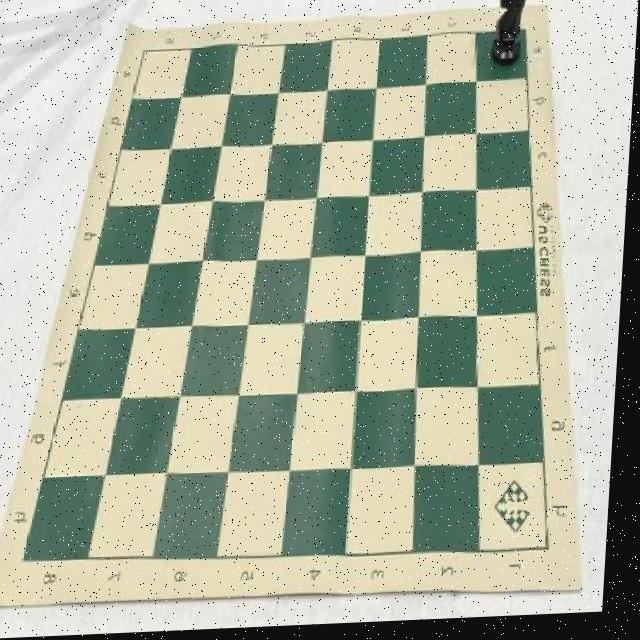black-king: (489, 0, 528, 74)
